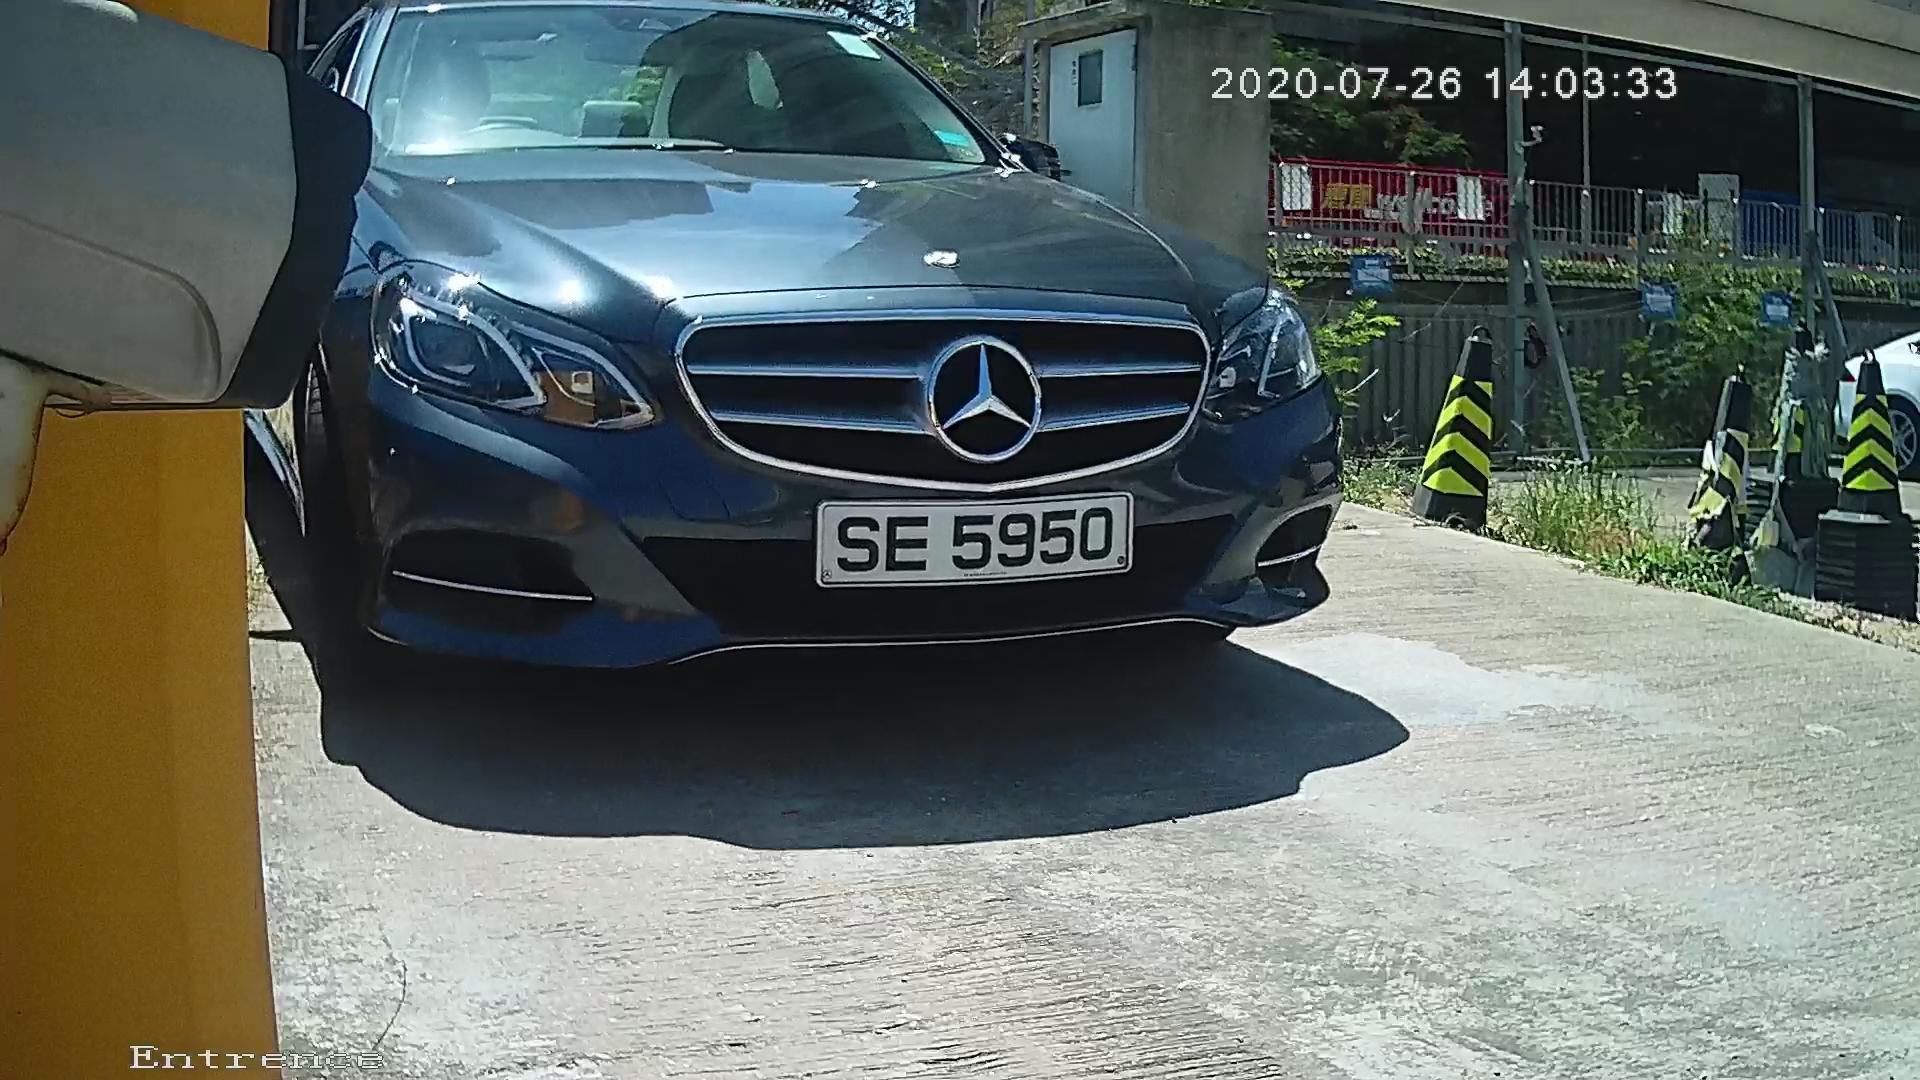privatecar: (258, 5, 1423, 782)
